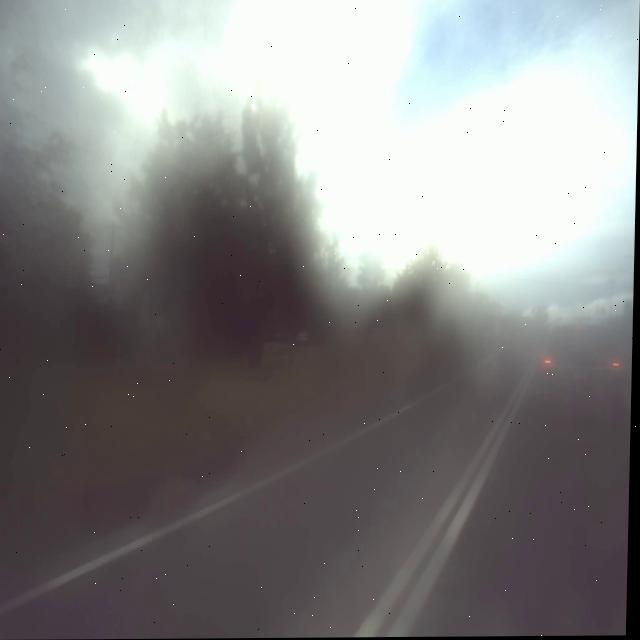car: (538, 312, 630, 427)
